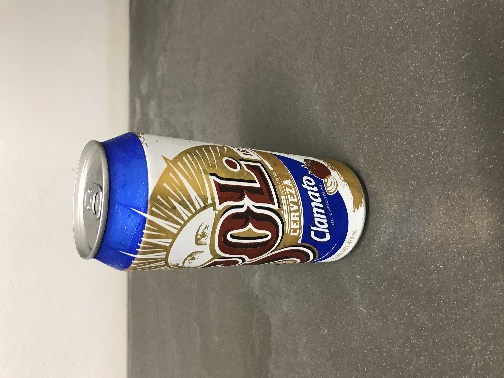SCL: (93, 108, 252, 194)
